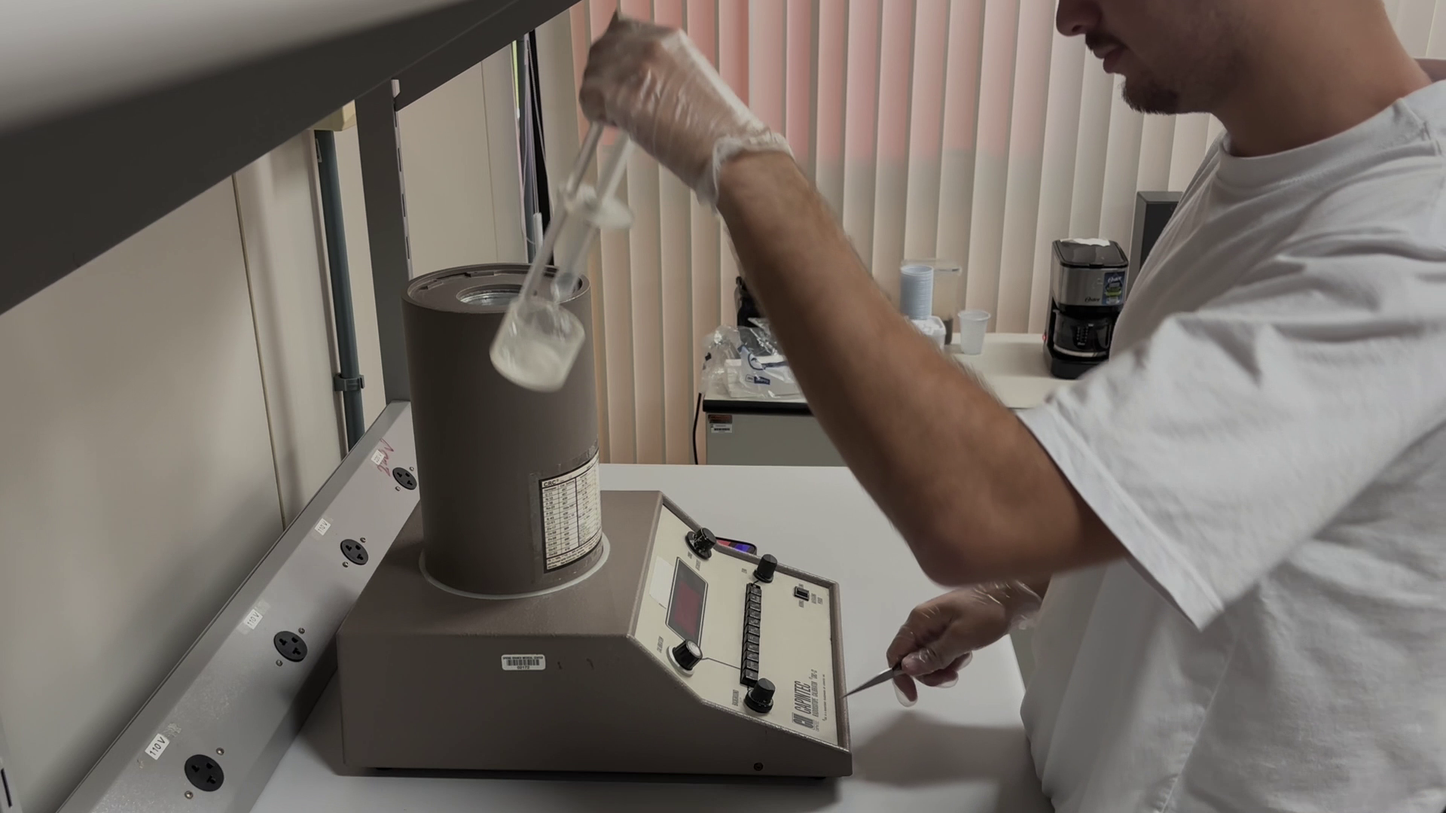Ativimetro: (399, 247, 610, 586)
Cesta: (490, 121, 635, 398)
Com_Luva: (581, 4, 799, 211), (883, 580, 1046, 707)
